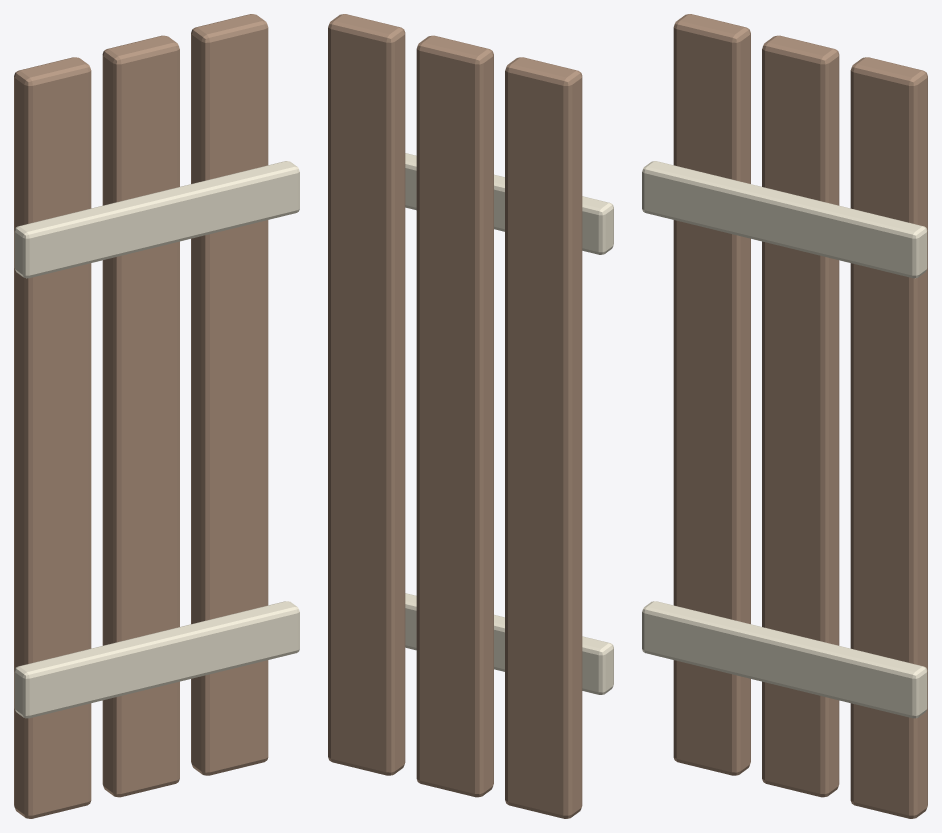
The picture shows the model from 3 angles, left to right: view 1: azimuth 30°, elevation 25°; view 2: azimuth 150°, elevation 25°; view 3: azimuth 330°, elevation 25°; orthographic projection.
Visible parts, largest first — view 1: splint board, splint board.001, splint board.002, binding.001, binding; view 2: splint board.001, splint board.002, splint board, binding, binding.001; view 3: splint board.002, splint board.001, splint board, binding.001, binding.
Part boxes in pixels (x1,y1,x2,y2): splint board: (14,57,91,818); splint board.001: (102,35,179,797); splint board.002: (191,14,268,775); binding.001: (14,161,299,278); binding: (14,601,299,718); splint board.001: (416,35,493,797); splint board.002: (328,14,405,775); splint board: (505,57,582,818); binding: (405,593,613,694); binding.001: (405,153,613,254); splint board.002: (850,57,927,818); splint board.001: (762,35,839,797); splint board: (673,14,750,775); binding.001: (642,161,927,278); binding: (642,601,927,718).
Bounding box in the file's own units: 0.25 × 0.64 × 0.0475.
